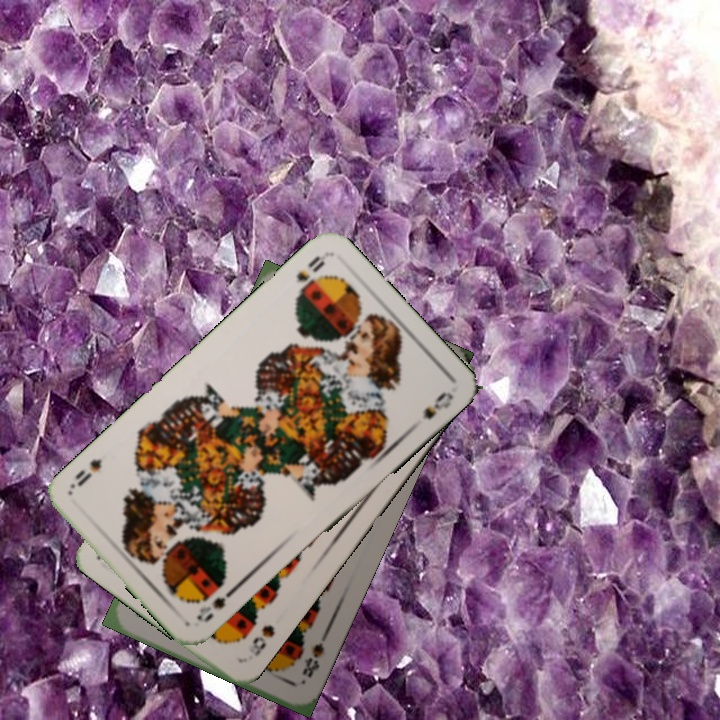S8: (298, 631, 329, 681), (244, 620, 278, 659)
SO: (192, 582, 241, 625), (292, 251, 329, 296)
